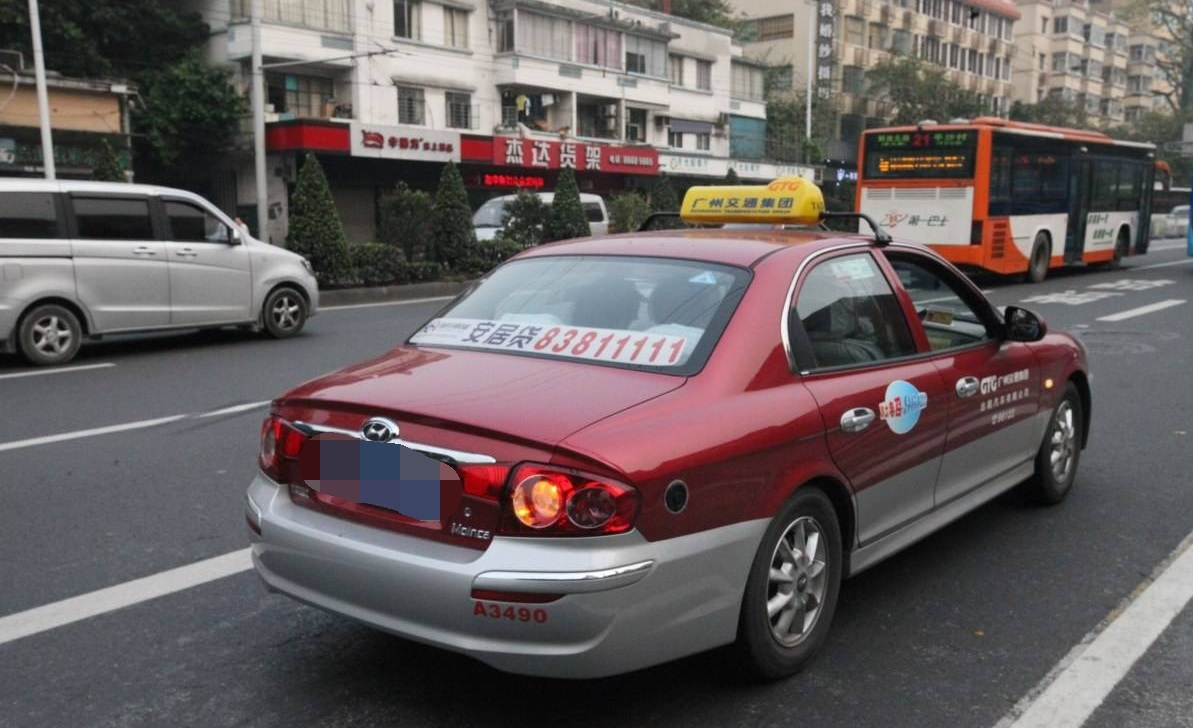taxi: (239, 171, 1099, 696)
